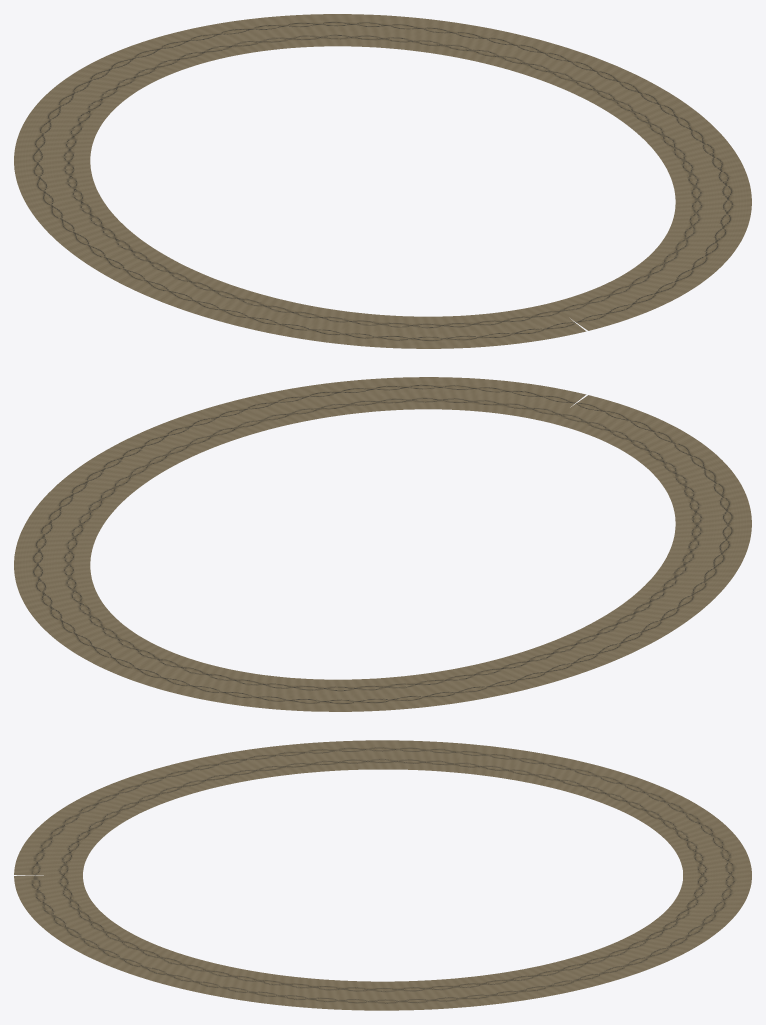
Rendered from drift-oval-road-lod.obj.
The picture shows the model from 3 angles, top to bottom: view 1: azimuth 30°, elevation 25°; view 2: azimuth 150°, elevation 25°; view 3: azimuth 270°, elevation 25°; orthographic projection. The views are drawn at different scales.
Visible parts, largest first — view 1: road; view 2: road; view 3: road.
Part boxes in pixels (x1,y1,x2,y2): road: (14, 14, 751, 348); road: (14, 377, 751, 711); road: (14, 740, 751, 1010).
Bounding box in the file's own units: 130 × 0.0226 × 150.
1 material, 1 textured.
